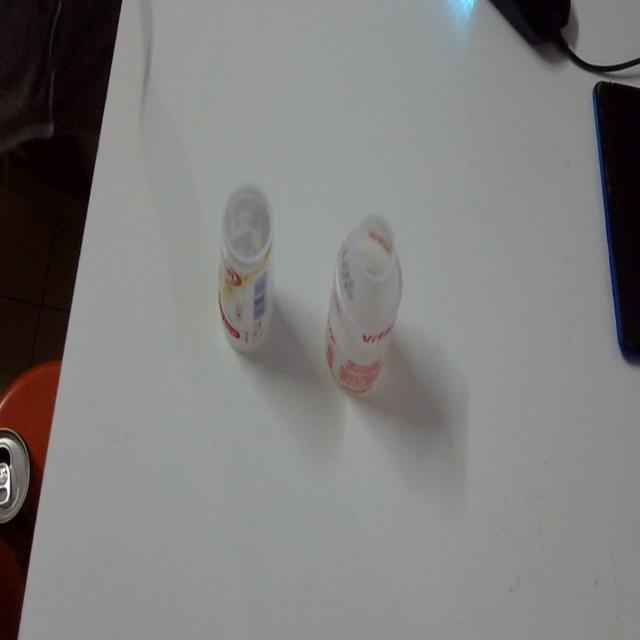plastic_standrotation: (317, 192, 407, 414), (209, 176, 289, 365)
